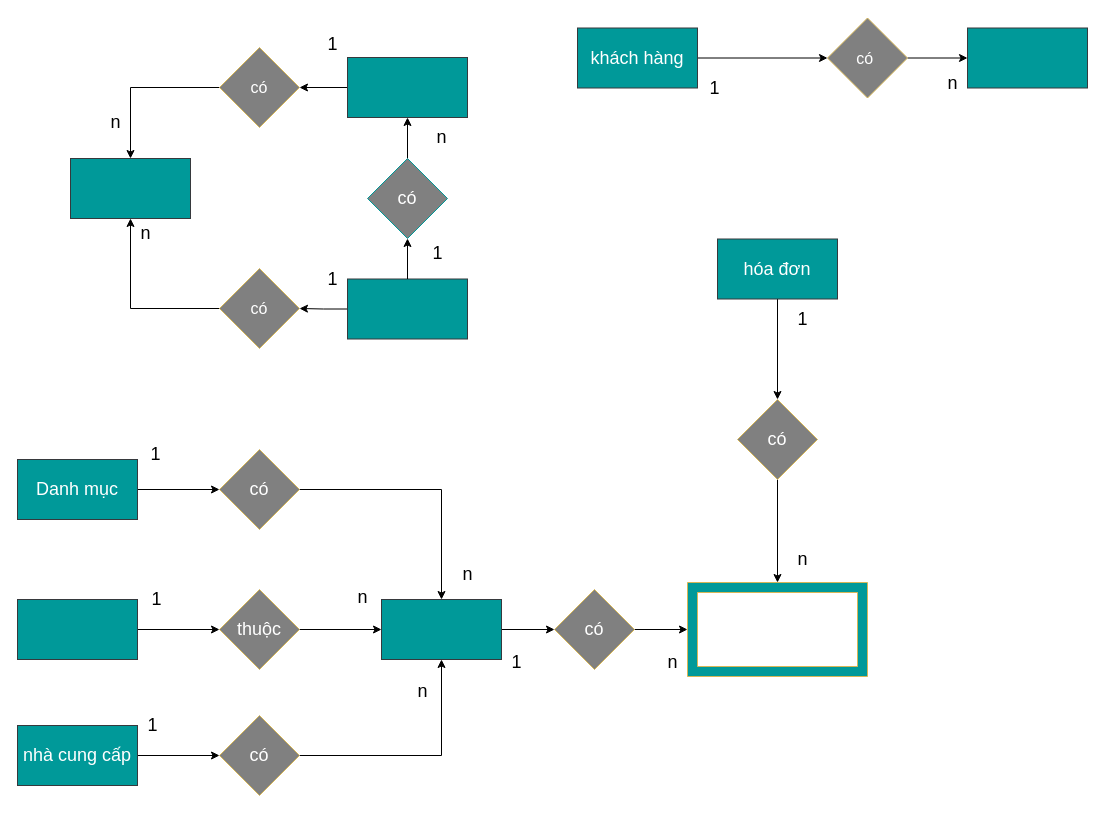
Some shapes in this 1105 by 813 pixel diagram are drawn without their labels. The centre of each missing label's shape, as x and y in pixels:
"bình luận" belongs at [1027,57].
"hóa đơn chi tiết" belongs at [777,629].
"Nhân viên" belongs at [130,188].
"Quầy hàng" belongs at [407,87].
"siêu thị" belongs at [407,308].
"sản phẩm" belongs at [441,629].
"Đơn vị" belongs at [77,629].
